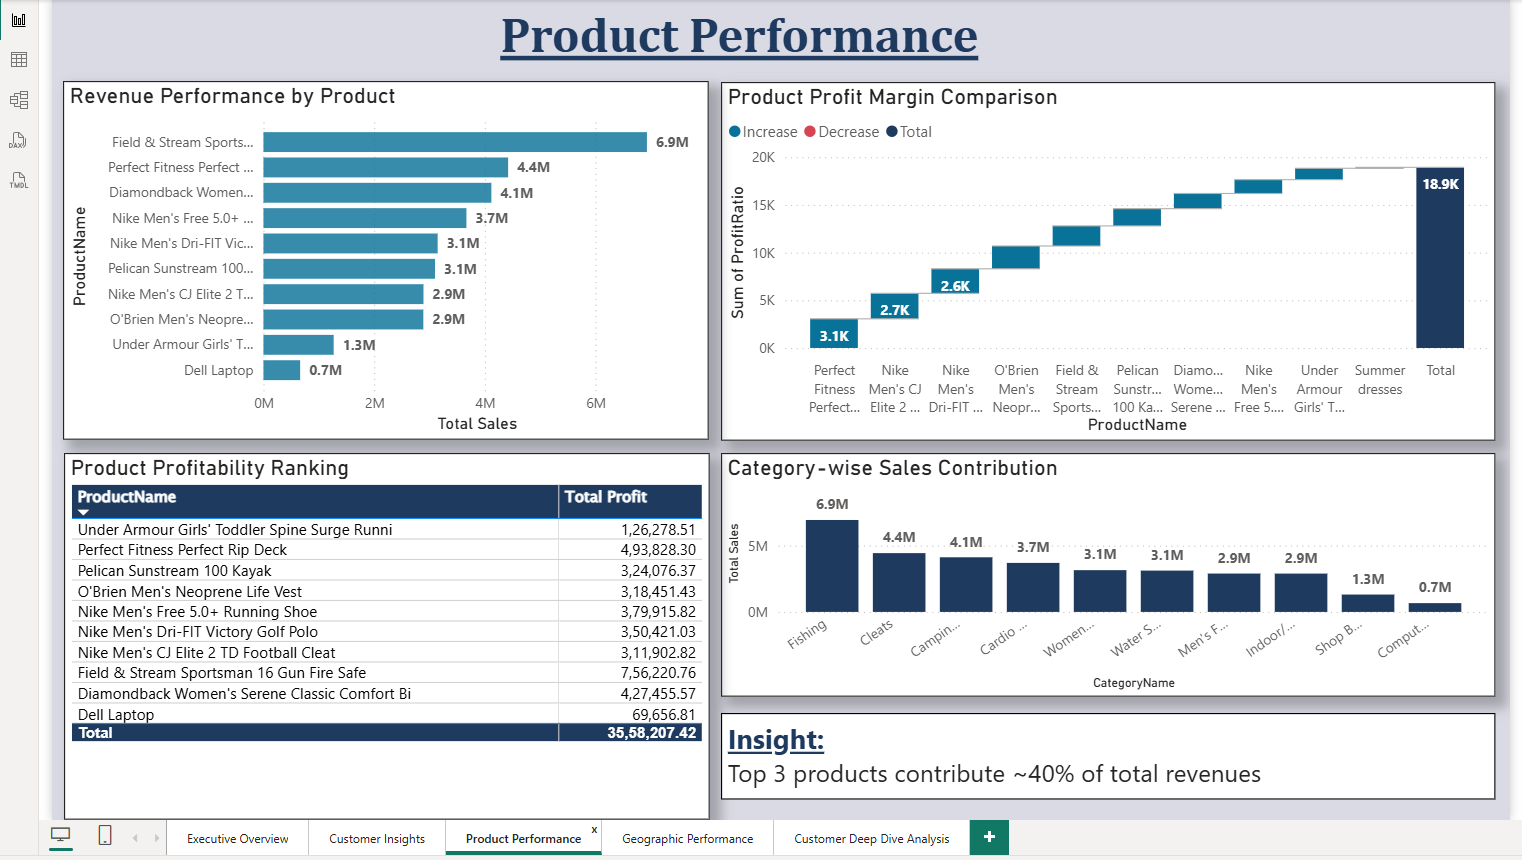

The page's visual inventory and layout, read from the dashboard file:
{"tool":"powerbi","page":{"name":"Product Performance","canvas":[1280,720],"ordinal":2},"visuals":[{"type":"textbox","box":[378.8,0,450,71.2],"z":0},{"type":"waterfallChart","title":"Product Profit Margin Comparison","fields":{"Category":["DimProduct.ProductName"],"Y":["Sum(FactOrders.ProfitRatio)"]},"box":[587.5,72.4,680.4,314.9],"z":1000},{"type":"columnChart","title":"Category-wise Sales Contribution","fields":{"Category":["DimProduct.CategoryName"],"Y":["Measures (1).Total Sales"]},"box":[587.5,398.1,680.4,213.5],"z":2000},{"type":"clusteredBarChart","title":"Revenue Performance by Product","fields":{"Category":["DimProduct.ProductName"],"Y":["Measures (1).Total Sales"]},"box":[9.7,71.2,567,314.9],"z":3000},{"type":"tableEx","title":"Product Profitability Ranking","fields":{"Values":["DimProduct.ProductName","Measures (1).Total Profit"]},"box":[10.9,398.1,567,322.1],"z":4000},{"type":"textbox","box":[587.5,626.1,680.4,76],"z":5000}]}

Visuals, with their boxes in screenshot pixels (x1, y1, x2, y2):
textbox: 484 0 993 81
"Product Profit Margin Comparison" waterfallChart: 720 82 1490 438
"Category-wise Sales Contribution" columnChart: 720 450 1490 692
"Revenue Performance by Product" clusteredBarChart: 66 81 708 437
"Product Profitability Ranking" tableEx: 68 450 709 815
textbox: 720 708 1490 794
